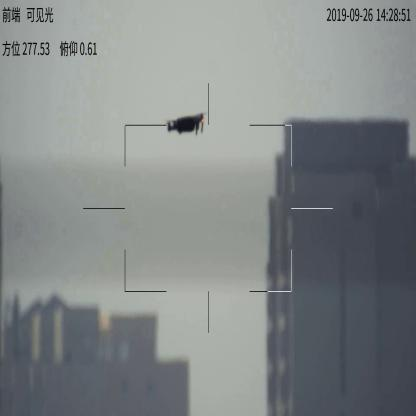uav: (157, 107, 208, 135)
